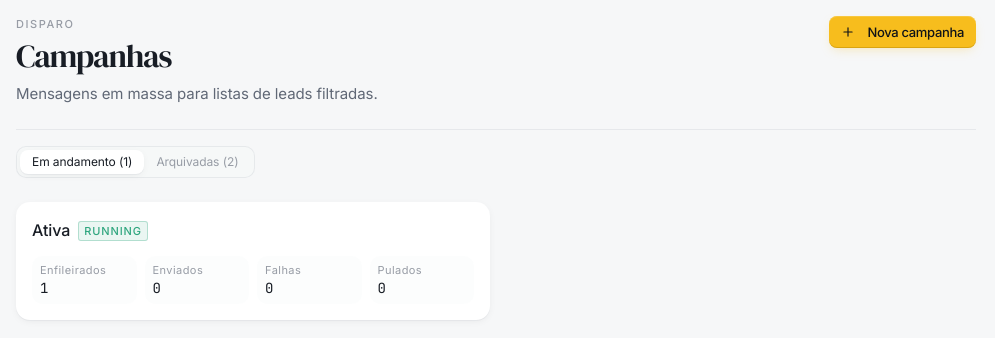
S46 — CampaignsPage › partitions running vs archived by status
The image size is (995, 338).
Expected: the text "Ativa" is shown, [32,218,70,244]
Expected: the text "Cancelada" is not shown
Note: Switch tab.
Click the button "Arquivadas (2)": (198, 162) [144,150,251,174]
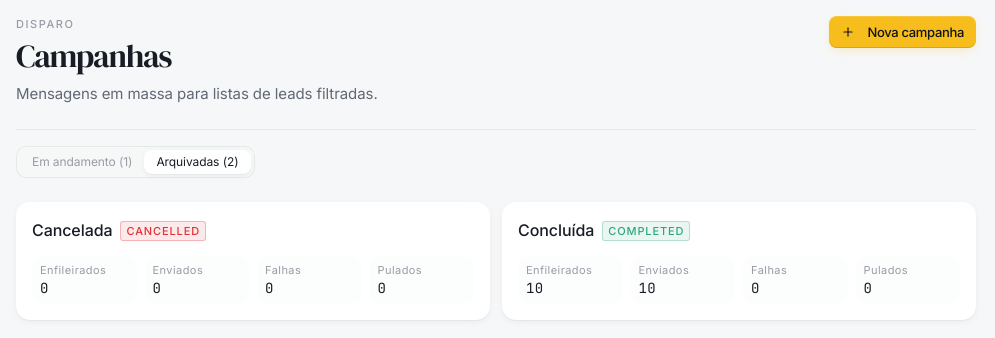
Expected: the text "Cancelada" is shown, [32,218,112,244]
Expected: the text "Concluída" is shown, [518,218,594,244]
